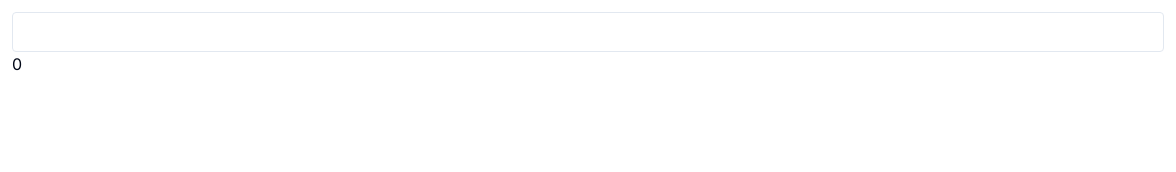
Test case: CurrencyInput › digitação (máscara em tempo real) › digitar "100000" produz R$ 1.000,00
Click the field: (588, 32) [12,12,1164,52]
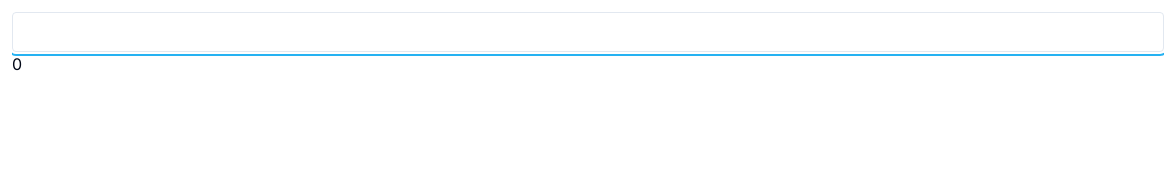
Type keys "100000"
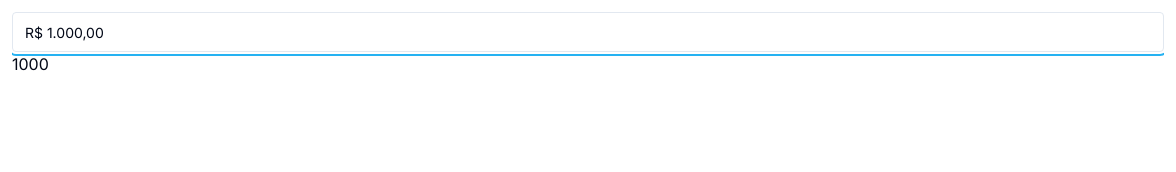
Check: the text with test id "raw" reads "1000", box [12,54,49,74]
